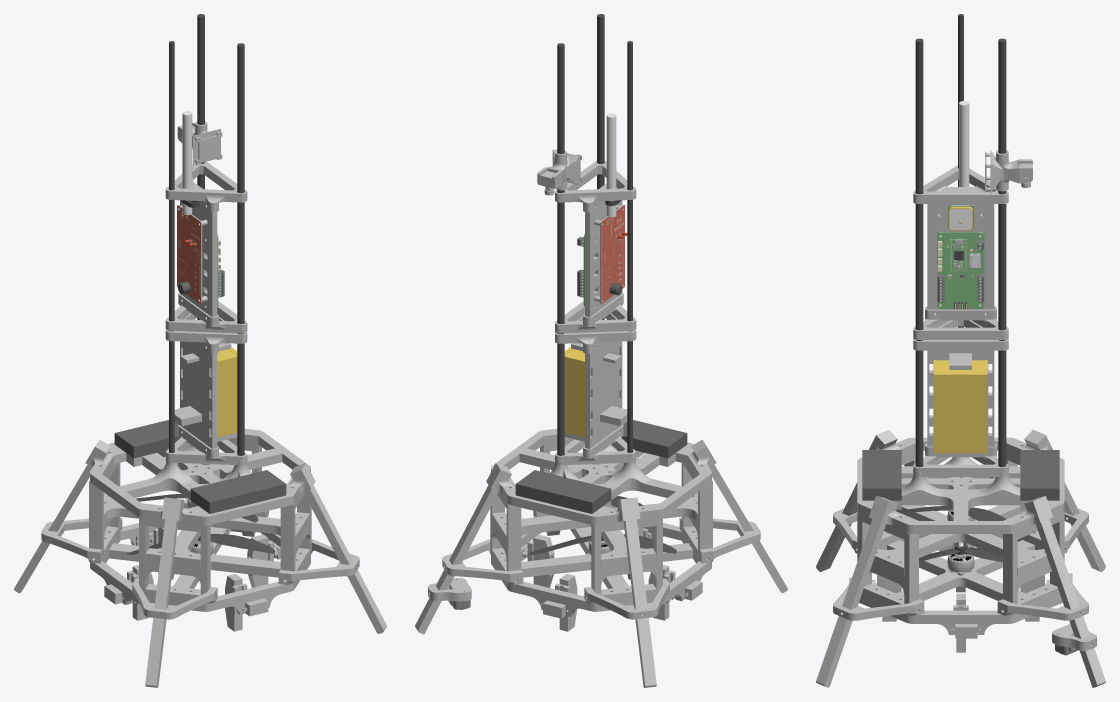
The model's file is hopper.glb.
The picture shows the model from 3 angles, left to right: view 1: azimuth 30°, elevation 25°; view 2: azimuth 150°, elevation 25°; view 3: azimuth 270°, elevation 25°; orthographic projection. The views are drawn at different scales.
Visible parts, largest first — view 1: geometry_27, geometry_3, geometry_9, geometry_5, geometry_8, geometry_36; view 2: geometry_27, geometry_3, geometry_9, geometry_5, geometry_8, geometry_36; view 3: geometry_27, geometry_3, geometry_8, geometry_9, geometry_14, geometry_36, geometry_23, geometry_38, geometry_12.
Part boxes in pixels (bbox=[...]): geometry_27: bbox=[14, 121, 386, 687]; geometry_3: bbox=[126, 14, 275, 554]; geometry_9: bbox=[114, 420, 286, 513]; geometry_5: bbox=[177, 205, 200, 303]; geometry_8: bbox=[217, 347, 237, 437]; geometry_36: bbox=[182, 111, 200, 541]; geometry_27: bbox=[415, 149, 787, 687]; geometry_3: bbox=[528, 14, 676, 554]; geometry_9: bbox=[515, 420, 687, 513]; geometry_5: bbox=[601, 205, 624, 303]; geometry_8: bbox=[564, 347, 584, 437]; geometry_36: bbox=[601, 113, 616, 541]; geometry_27: bbox=[816, 150, 1105, 687]; geometry_3: bbox=[896, 14, 1006, 562]; geometry_8: bbox=[933, 206, 987, 453]; geometry_9: bbox=[862, 450, 1059, 500]; geometry_14: bbox=[937, 205, 984, 308]; geometry_36: bbox=[958, 101, 979, 569]; geometry_23: bbox=[947, 510, 974, 575]; geometry_38: bbox=[942, 209, 972, 269]; geometry_12: bbox=[937, 240, 983, 302].
Bounding box in the file's own units: 294 × 670 × 294.
